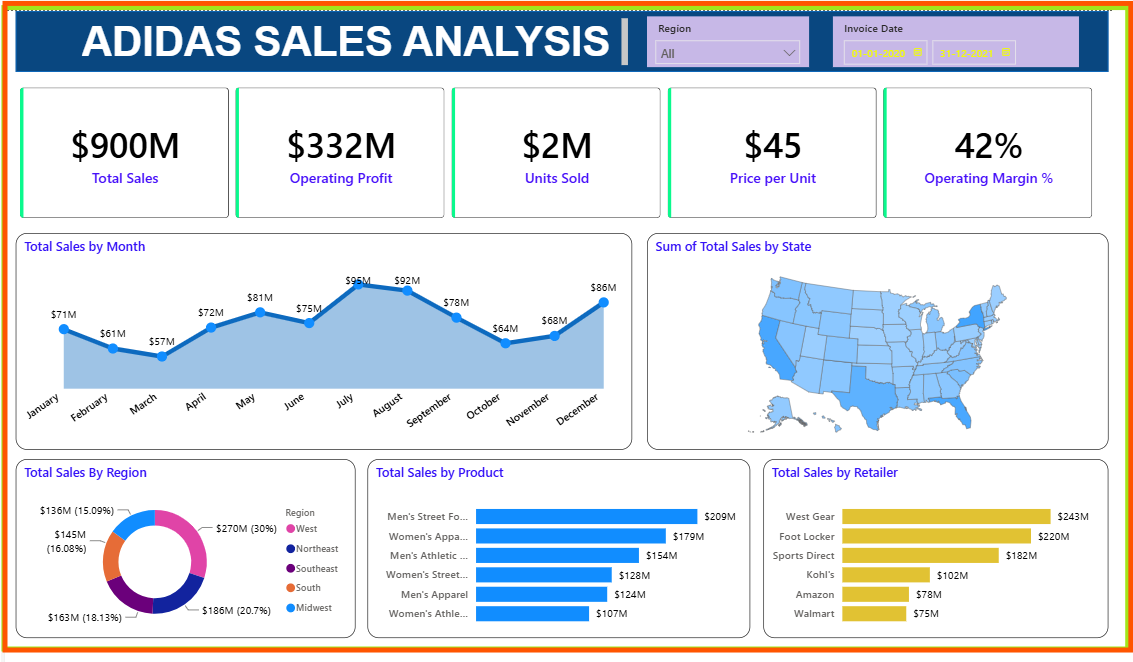

This screenshot's page, from the dashboard's own definition file:
{"tool":"powerbi","page":{"name":"Page 1","canvas":[1280,750],"ordinal":0},"visuals":[{"type":"shape","box":[12.3,0,1255,70],"z":0},{"type":"textbox","box":[83,3.1,637.5,64.5],"z":1000},{"type":"cardVisual","fields":{"Data":["Sum(Data Sales Adidas.Total Sales)","Sum(Data Sales Adidas.Operating Profit)","Sum(Data Sales Adidas.Units Sold)","Avg(Data Sales Adidas.Price per Unit)","Avg(Data Sales Adidas.Operating Margin)"]},"box":[0,70.7,1267.3,184.3],"z":2000},{"type":"areaChart","title":"Total Sales by Month","fields":{"Category":["Data Sales Adidas.Invoice Date.Variation.Date Hierarchy.Month"],"Y":["Sum(Data Sales Adidas.Total Sales)"]},"box":[12.3,255,708.2,248.9],"z":3000},{"type":"shapeMap","fields":{"Category":["Data Sales Adidas.State"],"Value":["Sum(Data Sales Adidas.Total Sales)"]},"box":[737.3,255,530,248.9],"z":4000},{"type":"donutChart","title":"Total Sales By Region","fields":{"Category":["Data Sales Adidas.Region"],"Y":["Sum(Data Sales Adidas.Total Sales)"]},"box":[12.3,514.6,390.2,205.8],"z":5000},{"type":"barChart","title":"Total Sales by Product","fields":{"Category":["Data Sales Adidas.Product"],"Y":["Sum(Data Sales Adidas.Total Sales)"]},"box":[416.3,514.6,439.3,205.8],"z":6000},{"type":"barChart","title":"Total Sales by Retailer","fields":{"Category":["Data Sales Adidas.Retailer"],"Y":["Sum(Data Sales Adidas.Total Sales)"]},"box":[871,514.6,396.3,205.8],"z":7000},{"type":"slicer","fields":{"Values":["Data Sales Adidas.Region"]},"box":[737.3,6.1,185.9,58.4],"z":7001},{"type":"slicer","fields":{"Values":["Data Sales Adidas.Invoice Date"]},"box":[950.9,6.1,282.6,58.4],"z":7002}]}

Visuals, with their boxes in screenshot pixels (x1, y1, x2, y2), scaled from the page's 1280x750 canvas onto the 1133x662 screenshot:
shape: {"x1": 11, "y1": 0, "x2": 1122, "y2": 62}
textbox: {"x1": 73, "y1": 3, "x2": 638, "y2": 60}
cardVisual - Sum(Data Sales Adidas.Total Sales) x Sum(Data Sales Adidas.Operating Profit): {"x1": 0, "y1": 62, "x2": 1122, "y2": 225}
"Total Sales by Month" areaChart: {"x1": 11, "y1": 225, "x2": 638, "y2": 445}
shapeMap - Data Sales Adidas.State x Sum(Data Sales Adidas.Total Sales): {"x1": 653, "y1": 225, "x2": 1122, "y2": 445}
"Total Sales By Region" donutChart: {"x1": 11, "y1": 454, "x2": 356, "y2": 636}
"Total Sales by Product" barChart: {"x1": 368, "y1": 454, "x2": 757, "y2": 636}
"Total Sales by Retailer" barChart: {"x1": 771, "y1": 454, "x2": 1122, "y2": 636}
slicer - Data Sales Adidas.Region: {"x1": 653, "y1": 5, "x2": 817, "y2": 57}
slicer - Data Sales Adidas.Invoice Date: {"x1": 842, "y1": 5, "x2": 1092, "y2": 57}
